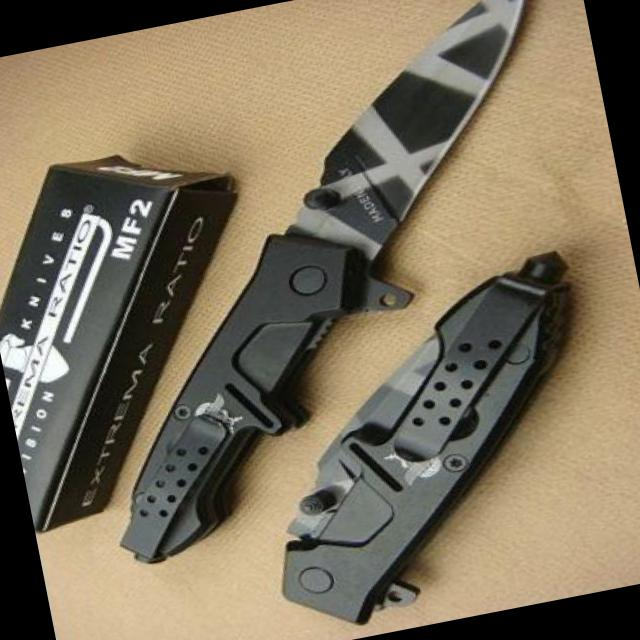knife: (233, 0, 590, 284)
